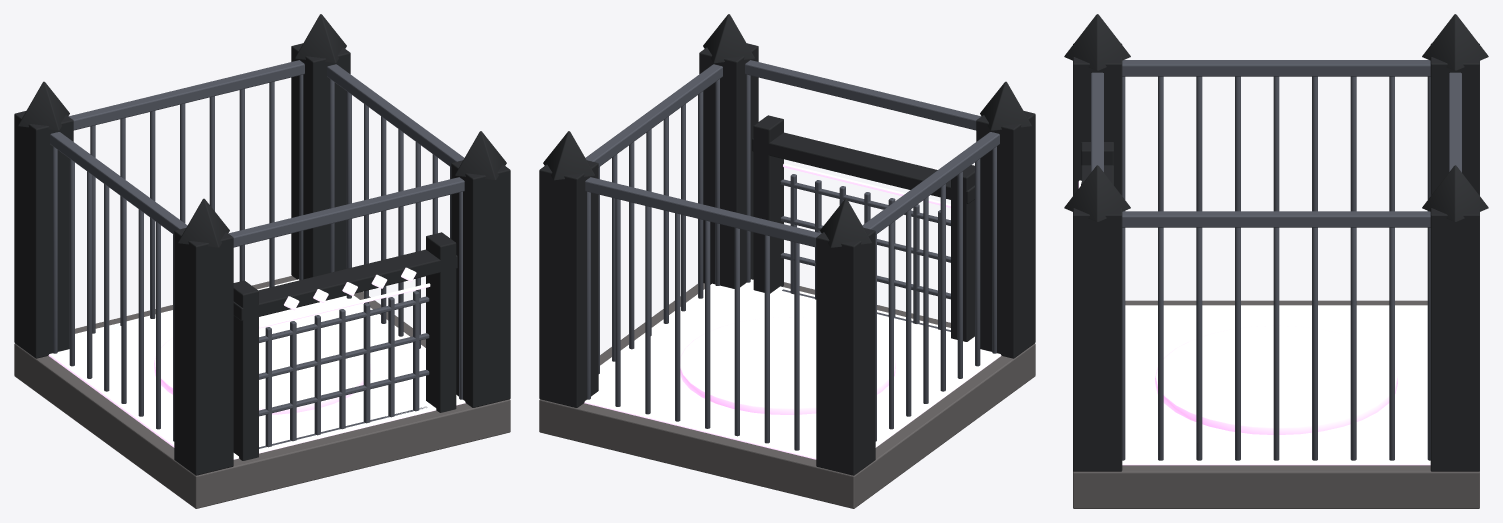
The model's file is MonsterHub_NULL_Pit.glb.
3 renders of one model, left to right at view 1: azimuth 30°, elevation 25°; view 2: azimuth 150°, elevation 25°; view 3: azimuth 270°, elevation 25°, orthographic. The views are drawn at different scales.
Visible parts, largest first — view 1: MonsterHub_NULL_Pit, MonsterHub_NULL_Pit_Gate; view 2: MonsterHub_NULL_Pit, MonsterHub_NULL_Pit_Gate; view 3: MonsterHub_NULL_Pit.
Boxes of the visible parts, x1,y1,x2,y2 form: MonsterHub_NULL_Pit: (14,14,510,508); MonsterHub_NULL_Pit_Gate: (259,283,430,448); MonsterHub_NULL_Pit: (539,14,1035,508); MonsterHub_NULL_Pit_Gate: (780,163,950,331); MonsterHub_NULL_Pit: (1064,14,1488,508).
Bounding box in the file's own units: 5.16 × 4.48 × 5.16.
